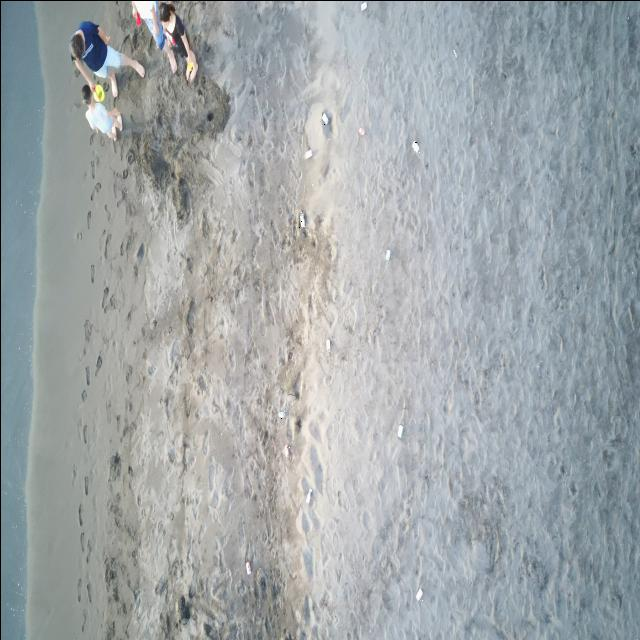Garbage: (92, 83, 103, 100), (283, 443, 289, 459), (415, 587, 422, 600), (396, 424, 403, 437), (244, 560, 251, 573), (306, 489, 312, 504), (412, 140, 419, 152), (320, 112, 327, 124), (278, 409, 286, 419), (304, 148, 312, 158), (299, 212, 304, 227), (384, 249, 390, 260), (135, 11, 140, 24), (357, 127, 364, 135), (360, 2, 367, 9), (452, 48, 455, 56), (327, 339, 328, 351)
